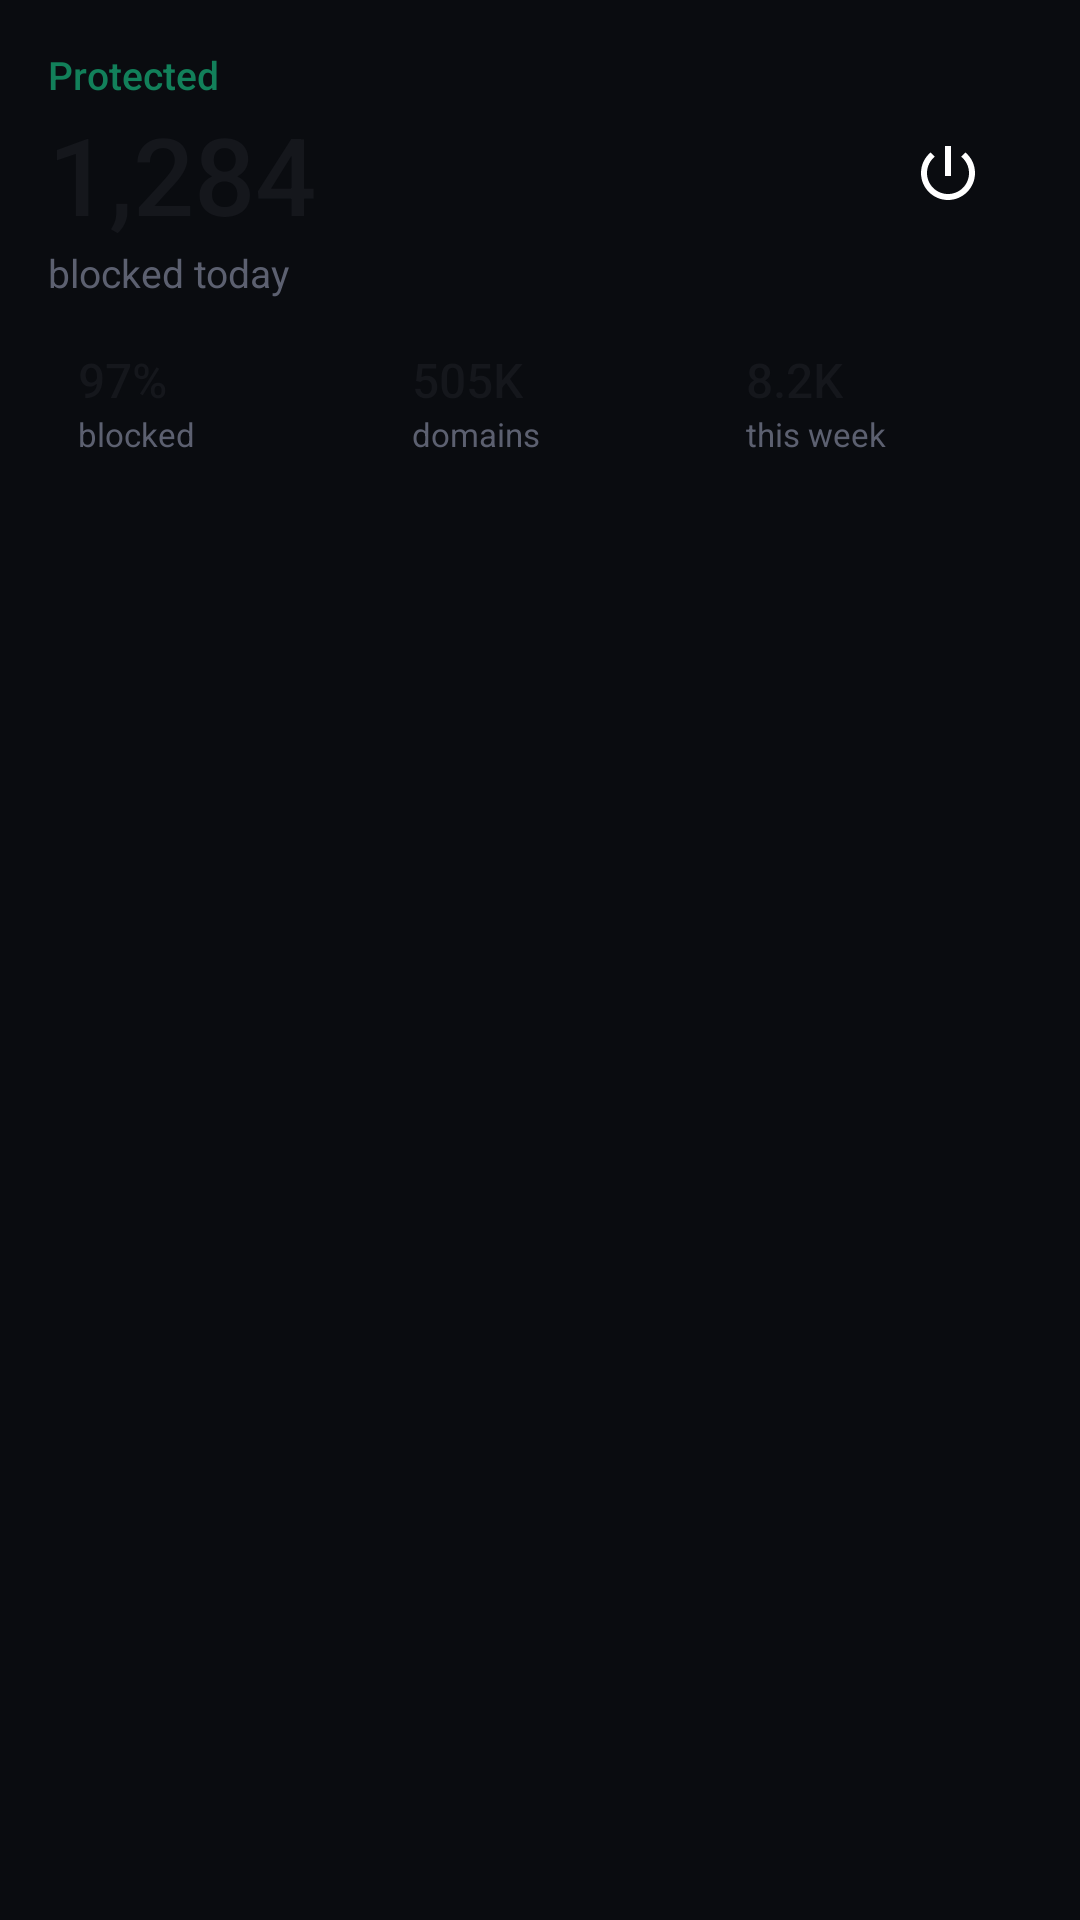

Icons on this 1080×1920 Android screen, each with its box as (x1, y1, x2, y2):
power: (921, 146, 975, 200)
